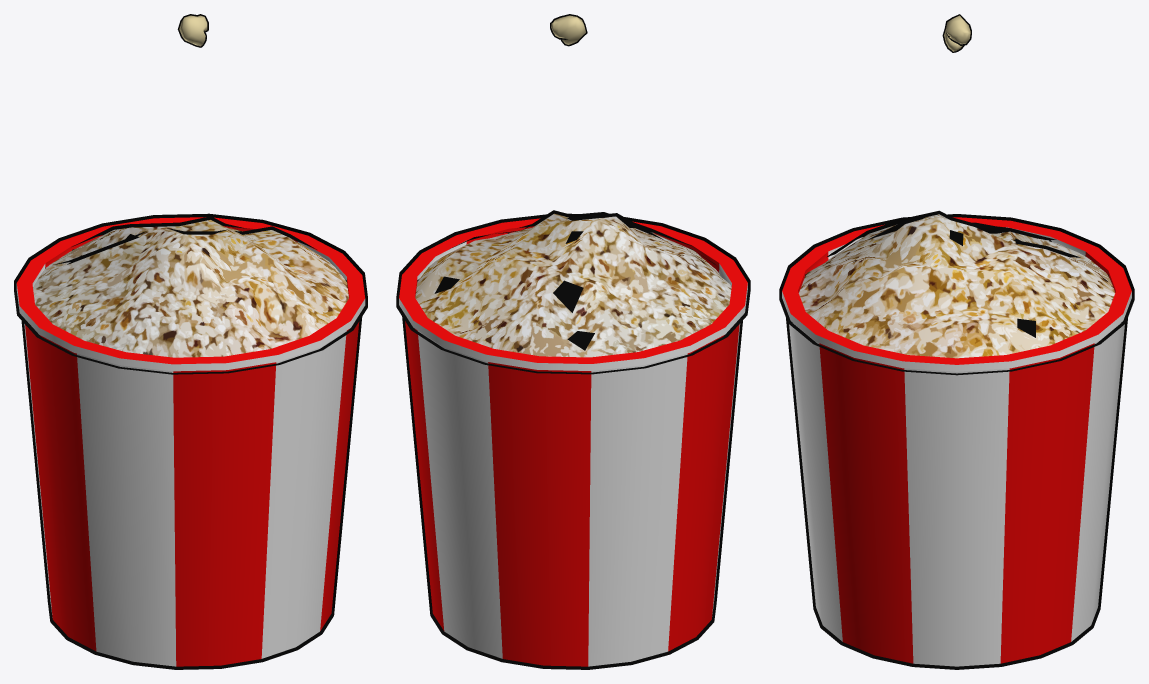
3 renders of one model, left to right at view 1: azimuth 30°, elevation 25°; view 2: azimuth 150°, elevation 25°; view 3: azimuth 270°, elevation 25°, orthographic.
Parts seen in each view (by area): view 1: PopcornBucket, PopcornSmall; view 2: PopcornBucket, PopcornSmall; view 3: PopcornBucket, PopcornSmall.
Boxes of the visible parts, <box> form: PopcornBucket: <box>14,213,367,669</box>; PopcornSmall: <box>177,14,208,47</box>; PopcornBucket: <box>396,210,750,669</box>; PopcornSmall: <box>550,14,587,46</box>; PopcornBucket: <box>779,210,1134,669</box>; PopcornSmall: <box>942,14,971,52</box>.
Size of the model in its own units: 23.52 by 43.31 by 23.52.
5 materials, 1 textured.
